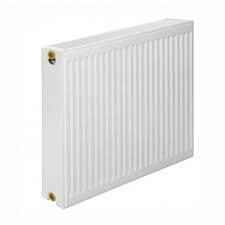Radiator: (40, 18, 196, 210)
